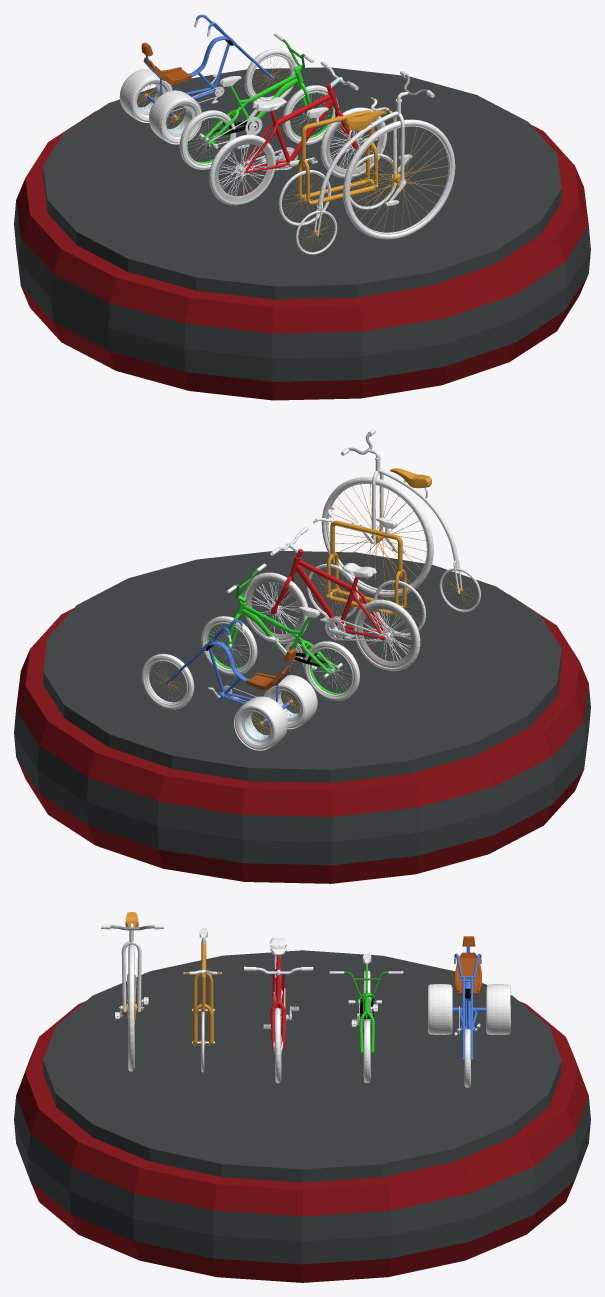
The model's file is Low-Poly-Bicycles-Pack-By-Edwin3D.fbx.
3 views of the same model, one above another, from view 1: azimuth 30°, elevation 25°; view 2: azimuth 150°, elevation 25°; view 3: azimuth 270°, elevation 25° (orthographic).
Visible parts, largest first — view 1: Cylinder.001, Cylinder, Cylinder.003, Cylinder.004, Cylinder.005, Cylinder.008, Cylinder.027, Cylinder.013; view 2: Cylinder.001, Cylinder, Cylinder.003, Cylinder.004, Cylinder.008, Cylinder.005, Cylinder.027, Cylinder.013; view 3: Cylinder.001, Cylinder, Cylinder.003, Cylinder.008, Cylinder.005, Cylinder.004, Cylinder.027, Cylinder.013.
Part boxes in pixels (x1,y1,x2,y2): Cylinder.001: (43, 67, 561, 299); Cylinder: (16, 111, 588, 400); Cylinder.003: (14, 200, 590, 381); Cylinder.004: (209, 61, 387, 205); Cylinder.005: (296, 70, 455, 254); Cylinder.008: (119, 14, 296, 144); Cylinder.027: (179, 33, 338, 169); Cylinder.013: (278, 97, 397, 225); Cylinder.001: (43, 550, 561, 782); Cylinder: (16, 594, 588, 883); Cylinder.003: (14, 683, 590, 865); Cylinder.004: (243, 527, 420, 671); Cylinder.008: (141, 619, 317, 750); Cylinder.005: (321, 429, 480, 612); Cylinder.027: (201, 563, 359, 700); Cylinder.013: (307, 507, 425, 636); Cylinder.001: (43, 950, 561, 1182); Cylinder: (16, 1001, 588, 1282); Cylinder.003: (14, 1096, 590, 1264); Cylinder.008: (428, 936, 510, 1087); Cylinder.005: (101, 912, 163, 1071); Cylinder.004: (244, 937, 313, 1083); Cylinder.027: (329, 953, 403, 1082); Cylinder.013: (183, 928, 221, 1072).
Size of the model in its own units: 2973 by 1927 by 2973.
